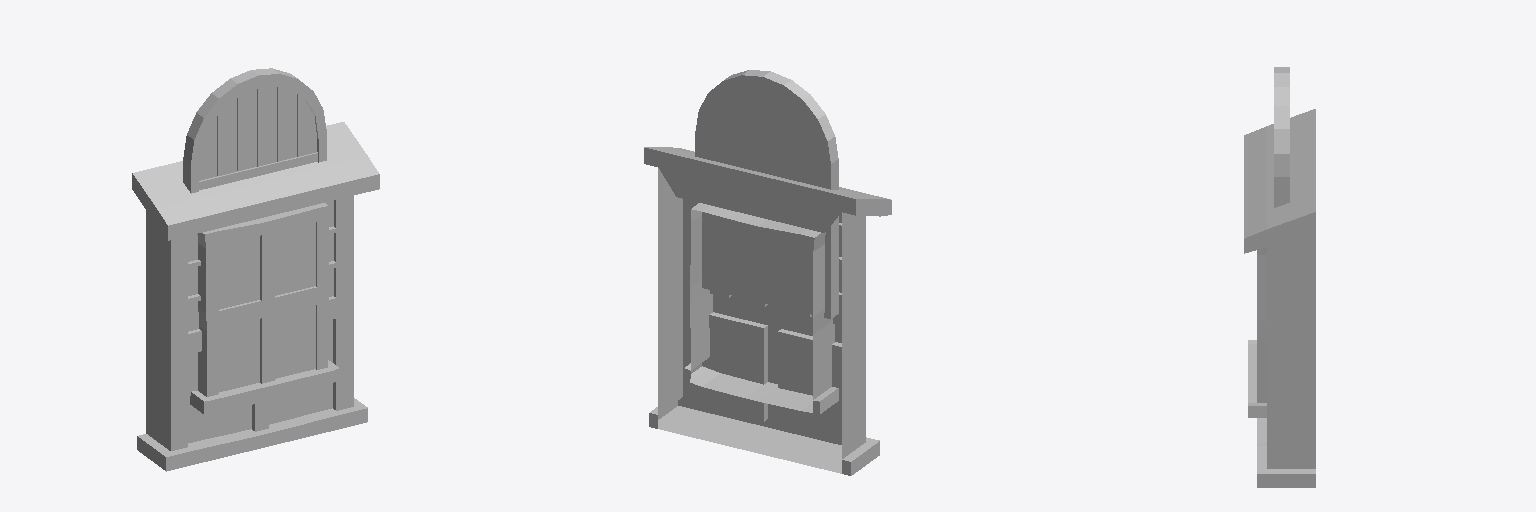
File: Modular Pieces.obj
3 renders of one model, left to right at view 1: azimuth 30°, elevation 25°; view 2: azimuth 150°, elevation 25°; view 3: azimuth 270°, elevation 25°, orthographic.
Parts seen in each view (by area): view 1: Tavern_Model_OBJ:Side_Window polySurface22 Tavern_Model_OBJ:poly, Tavern_Model_OBJ:Small_Tavern_Window10 Tavern_Model_OBJ:polySurf, Tavern_Model_OBJ:DoorPaneling1 polySurface45, Tavern_Model_OBJ:DoorArch2 polySurface45, Tavern_Model_OBJ:Door_brace2 polySurface45; view 2: Tavern_Model_OBJ:Side_Window polySurface22 Tavern_Model_OBJ:poly, Tavern_Model_OBJ:DoorArch2 polySurface45, Tavern_Model_OBJ:Small_Tavern_Window10 Tavern_Model_OBJ:polySurf; view 3: Tavern_Model_OBJ:Side_Window polySurface22 Tavern_Model_OBJ:poly, Tavern_Model_OBJ:Small_Tavern_Window10 Tavern_Model_OBJ:polySurf, Tavern_Model_OBJ:DoorArch2 polySurface45.
Part boxes in pixels (left/top/right/bottom): Tavern_Model_OBJ:Side_Window polySurface22 Tavern_Model_OBJ:poly: left=132, top=122, right=379, bottom=471; Tavern_Model_OBJ:Small_Tavern_Window10 Tavern_Model_OBJ:polySurf: left=190, top=203, right=340, bottom=413; Tavern_Model_OBJ:DoorPaneling1 polySurface45: left=199, top=87, right=316, bottom=180; Tavern_Model_OBJ:DoorArch2 polySurface45: left=183, top=68, right=326, bottom=193; Tavern_Model_OBJ:Door_brace2 polySurface45: left=199, top=152, right=317, bottom=189; Tavern_Model_OBJ:Side_Window polySurface22 Tavern_Model_OBJ:poly: left=644, top=147, right=891, bottom=475; Tavern_Model_OBJ:DoorArch2 polySurface45: left=695, top=70, right=838, bottom=318; Tavern_Model_OBJ:Small_Tavern_Window10 Tavern_Model_OBJ:polySurf: left=683, top=203, right=838, bottom=413; Tavern_Model_OBJ:Side_Window polySurface22 Tavern_Model_OBJ:poly: left=1244, top=109, right=1315, bottom=487; Tavern_Model_OBJ:Small_Tavern_Window10 Tavern_Model_OBJ:polySurf: left=1248, top=247, right=1266, bottom=417; Tavern_Model_OBJ:DoorArch2 polySurface45: left=1274, top=67, right=1289, bottom=207.
Size of the model in its own units: 4.39 by 7.24 by 1.28.